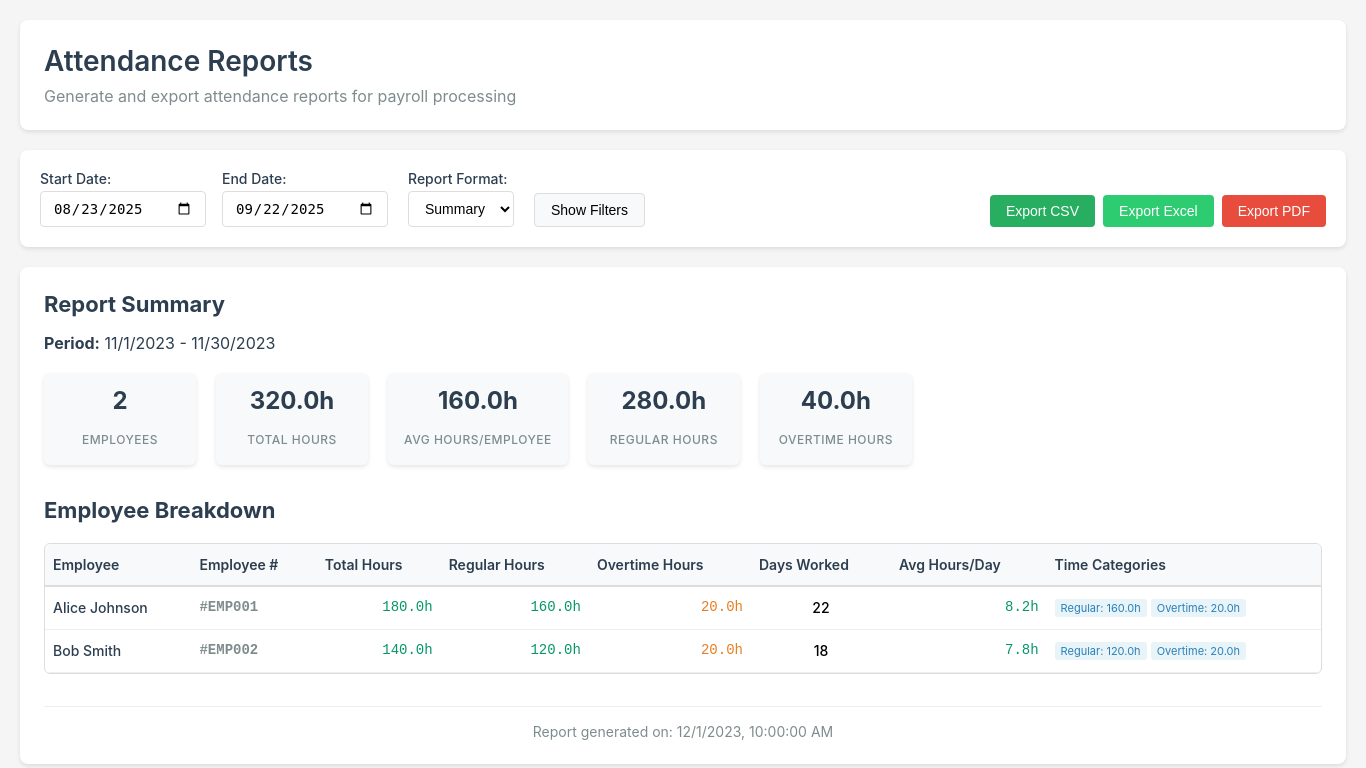
Test case: AttendanceReports Integration › handles select all employees functionality
Show filters
Click the button "Show Filters" at (590, 210), box [534, 193, 645, 227]
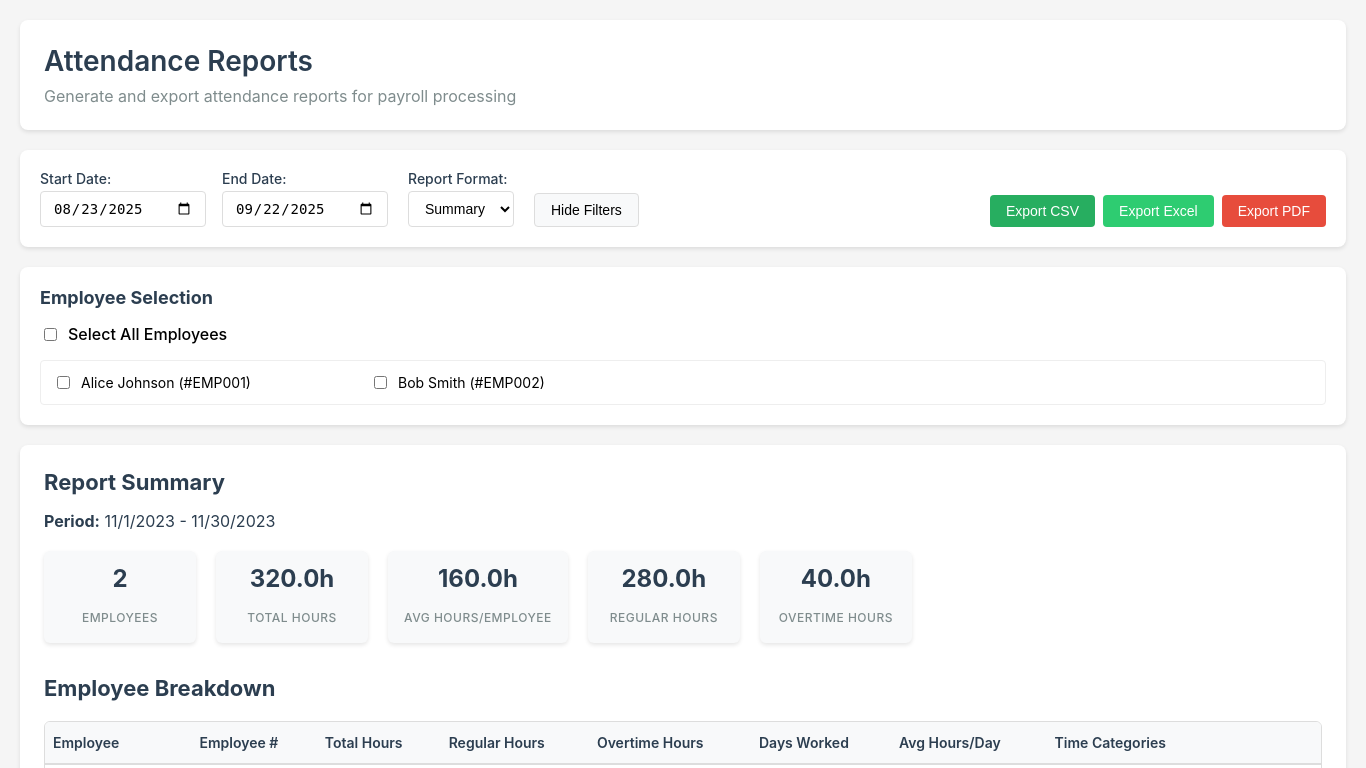
expect the checkbox labelled "Select All Employees" is not checked: met
expect the checkbox labelled "Alice Johnson (#EMP001)" is not checked: met, box [57, 376, 70, 389]
expect the checkbox labelled "Bob Smith (#EMP002)" is not checked: met, box [374, 376, 387, 389]
Select all
Click the checkbox labelled "Select All Employees" at (50, 334), box [44, 328, 57, 340]
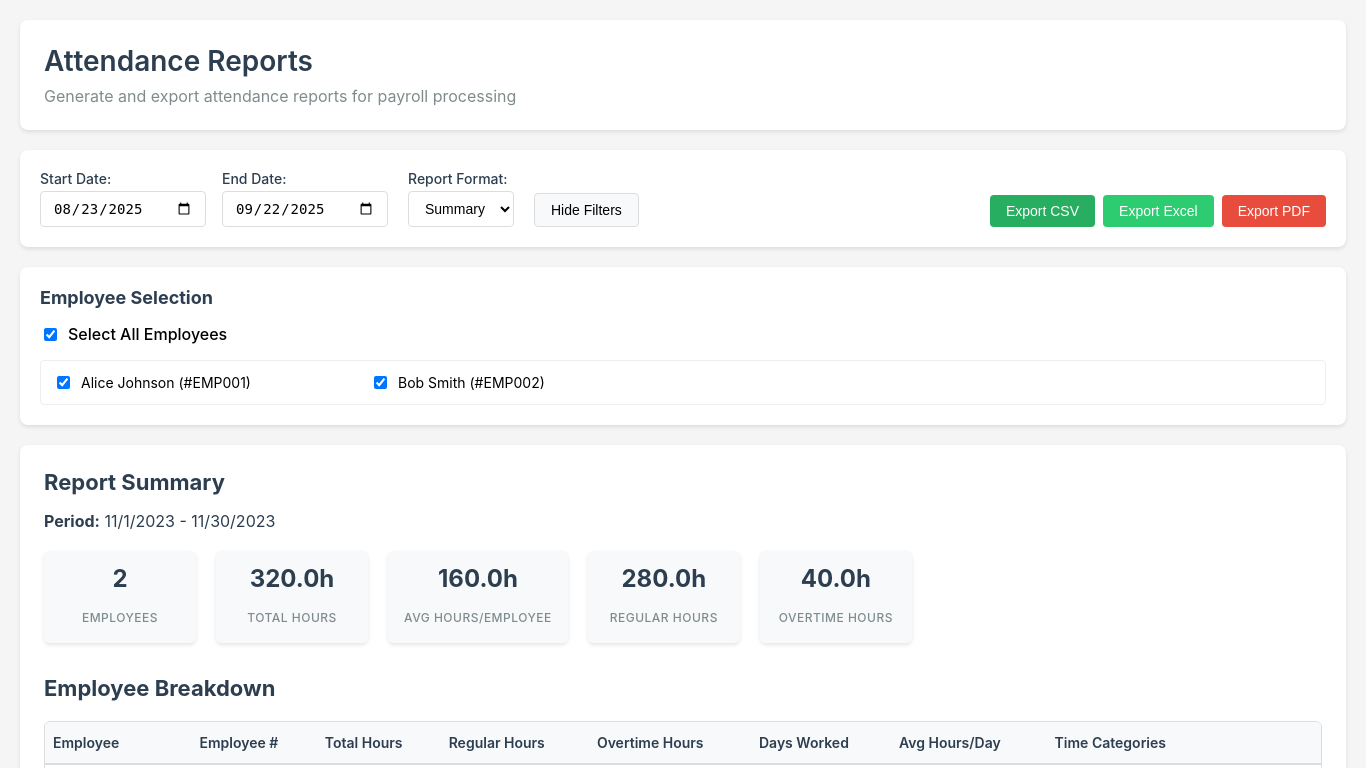
expect the checkbox labelled "Select All Employees" is checked: met
expect the checkbox labelled "Alice Johnson (#EMP001)" is checked: met, box [57, 376, 70, 389]
expect the checkbox labelled "Bob Smith (#EMP002)" is checked: met, box [374, 376, 387, 389]
Deselect all
Click the checkbox labelled "Select All Employees" at (50, 334), box [44, 328, 57, 340]
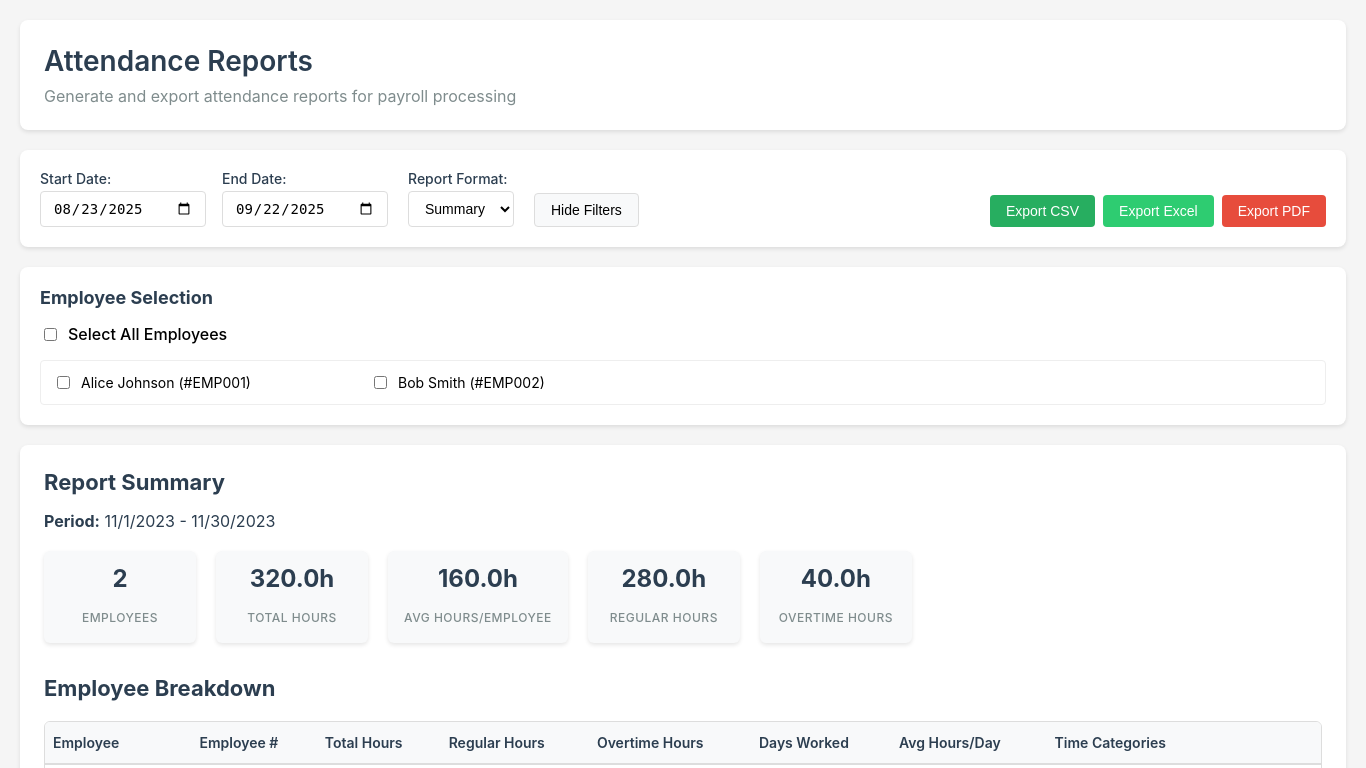
expect the checkbox labelled "Select All Employees" is not checked: met, box [44, 328, 57, 340]
expect the checkbox labelled "Alice Johnson (#EMP001)" is not checked: met, box [57, 376, 70, 389]
expect the checkbox labelled "Bob Smith (#EMP002)" is not checked: met, box [374, 376, 387, 389]
